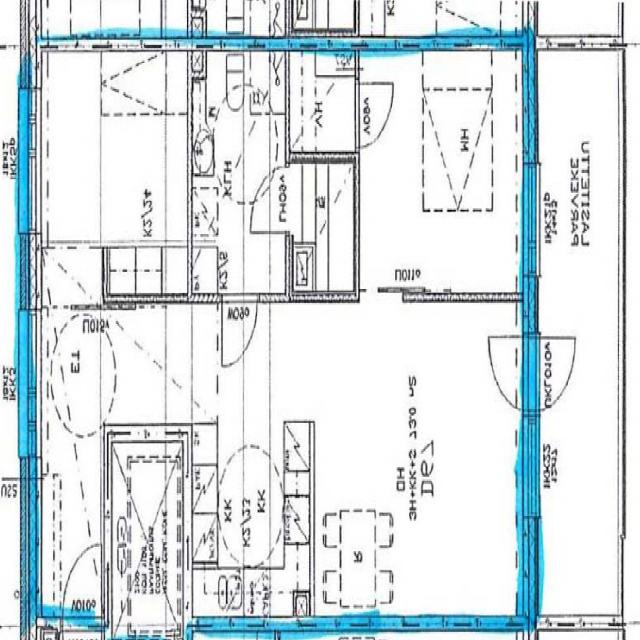door: (483, 337, 539, 411), (523, 336, 578, 411), (62, 545, 102, 630), (355, 83, 395, 148), (222, 294, 257, 366), (252, 168, 291, 231)
